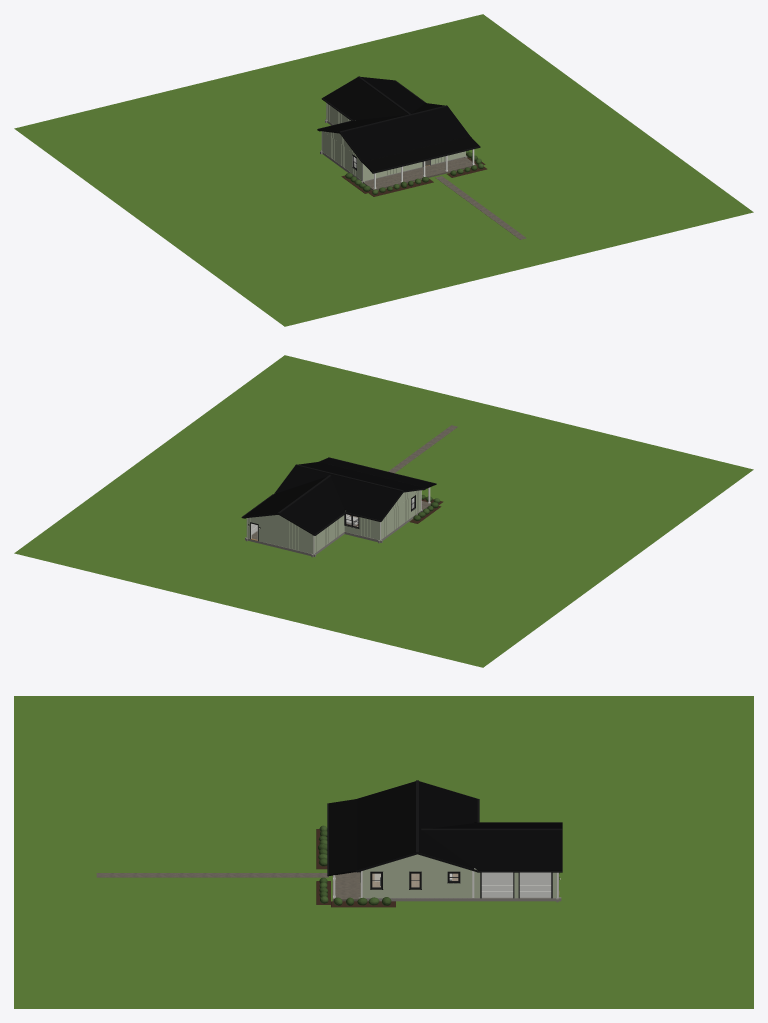
Rendered from house.glb.
3 renders of one model, top to bottom at view 1: azimuth 30°, elevation 25°; view 2: azimuth 150°, elevation 25°; view 3: azimuth 270°, elevation 25°, orthographic. The views are drawn at different scales.
Parts seen in each view (by area): view 1: LM_ground, LM_roof, LM_site, LM_walls; view 2: LM_ground, LM_roof, LM_walls, LM_site; view 3: LM_ground, LM_roof, LM_walls, LM_site, LM_fixtures.
Part boxes in pixels (bbox=[...]): LM_ground: bbox=[14, 14, 753, 326]; LM_roof: bbox=[317, 76, 480, 173]; LM_site: bbox=[320, 119, 526, 239]; LM_walls: bbox=[321, 103, 465, 181]; LM_ground: bbox=[14, 355, 753, 667]; LM_roof: bbox=[241, 457, 436, 535]; LM_walls: bbox=[246, 490, 421, 554]; LM_site: bbox=[245, 425, 457, 557]; LM_ground: bbox=[14, 696, 753, 1008]; LM_roof: bbox=[327, 780, 562, 876]; LM_walls: bbox=[360, 854, 559, 898]; LM_site: bbox=[96, 825, 561, 907]; LM_fixtures: bbox=[371, 872, 559, 898].
Size of the model in its own units: 64 by 7.28 by 64.
Materials: 59 (14 with a texture image).
